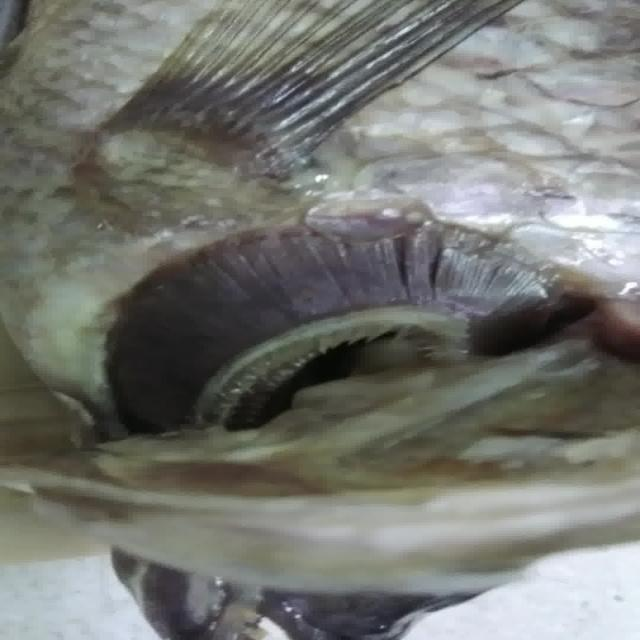Non-Fresh: (75, 214, 605, 446)
